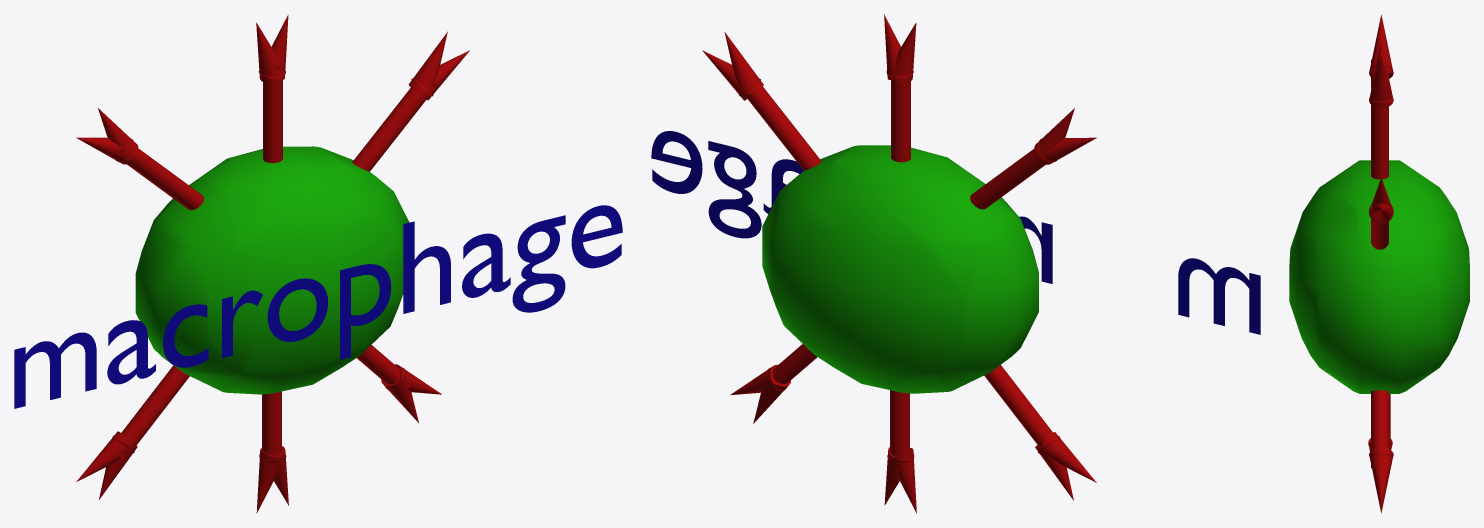
The model's file is macrophage.obj.
The picture shows the model from 3 angles, left to right: view 1: azimuth 30°, elevation 25°; view 2: azimuth 150°, elevation 25°; view 3: azimuth 270°, elevation 25°; orthographic projection. The views are drawn at different scales.
Visible parts, largest first — view 1: Mball, Text, Cylinder.002, Cylinder.005, Cylinder.004, Cylinder, Cylinder.007, Cylinder.006, Cone.004_Cone.005, Cone.010_Cone.011, Cone_Cone.001, Cone.015_Cone.016 (+2 smaller); view 2: Mball, Text, Cylinder.002, Cylinder.005, Cylinder.004, Cylinder, Cylinder.007, Cone.010_Cone.011, Cone.004_Cone.005, Cylinder.006, Cone_Cone.001, Cone.015_Cone.016 (+2 smaller); view 3: Mball, Cylinder, Cylinder.006, Cone.012_Cone.013, Cone.001_Cone.002, Cone.009_Cone.010, Cylinder.002, Cone.005_Cone.006, Cone.004_Cone.005, Cone_Cone.001, Cone.013_Cone.014.
Part boxes in pixels (x1=…): Mball: x1=135, y1=146, x2=409, y2=394; Text: x1=14, y1=205, x2=622, y2=408; Cylinder.002: x1=352, y1=80, x2=437, y2=171; Cylinder.005: x1=119, y1=365, x2=189, y2=459; Cylinder.004: x1=119, y1=145, x2=203, y2=210; Cylinder: x1=263, y1=64, x2=282, y2=163; Cylinder.007: x1=262, y1=391, x2=281, y2=455; Cylinder.006: x1=357, y1=345, x2=410, y2=391; Cone.004_Cone.005: x1=408, y1=31, x2=447, y2=96; Cone.010_Cone.011: x1=76, y1=431, x2=134, y2=481; Cone_Cone.001: x1=256, y1=22, x2=285, y2=82; Cone.015_Cone.016: x1=256, y1=448, x2=286, y2=513; Mball: x1=762, y1=145, x2=1038, y2=393; Text: x1=651, y1=131, x2=1260, y2=334; Cylinder.002: x1=746, y1=86, x2=821, y2=170; Cylinder.005: x1=984, y1=365, x2=1052, y2=445; Cylinder.004: x1=970, y1=148, x2=1045, y2=209; Cylinder: x1=891, y1=80, x2=910, y2=162; Cylinder.007: x1=890, y1=390, x2=909, y2=471; Cone.010_Cone.011: x1=1038, y1=432, x2=1096, y2=482; Cone.004_Cone.005: x1=724, y1=32, x2=763, y2=96; Cylinder.006: x1=773, y1=344, x2=817, y2=383; Cone_Cone.001: x1=886, y1=22, x2=916, y2=82; Cone.015_Cone.016: x1=887, y1=448, x2=916, y2=513; Mball: x1=1289, y1=160, x2=1469, y2=393; Cylinder: x1=1371, y1=86, x2=1388, y2=179; Cylinder.006: x1=1371, y1=390, x2=1388, y2=468; Cone.012_Cone.013: x1=1369, y1=447, x2=1393, y2=502; Cone.001_Cone.002: x1=1369, y1=56, x2=1393, y2=108; Cone.009_Cone.010: x1=1369, y1=15, x2=1393, y2=73; Cylinder.002: x1=1371, y1=204, x2=1388, y2=249; Cone.005_Cone.006: x1=1369, y1=203, x2=1393, y2=223; Cone.004_Cone.005: x1=1369, y1=178, x2=1393, y2=222; Cone_Cone.001: x1=1369, y1=42, x2=1393, y2=102; Cone.013_Cone.014: x1=1369, y1=454, x2=1393, y2=512.
Bounding box in the file's own units: 6.35 × 4.91 × 1.8.
